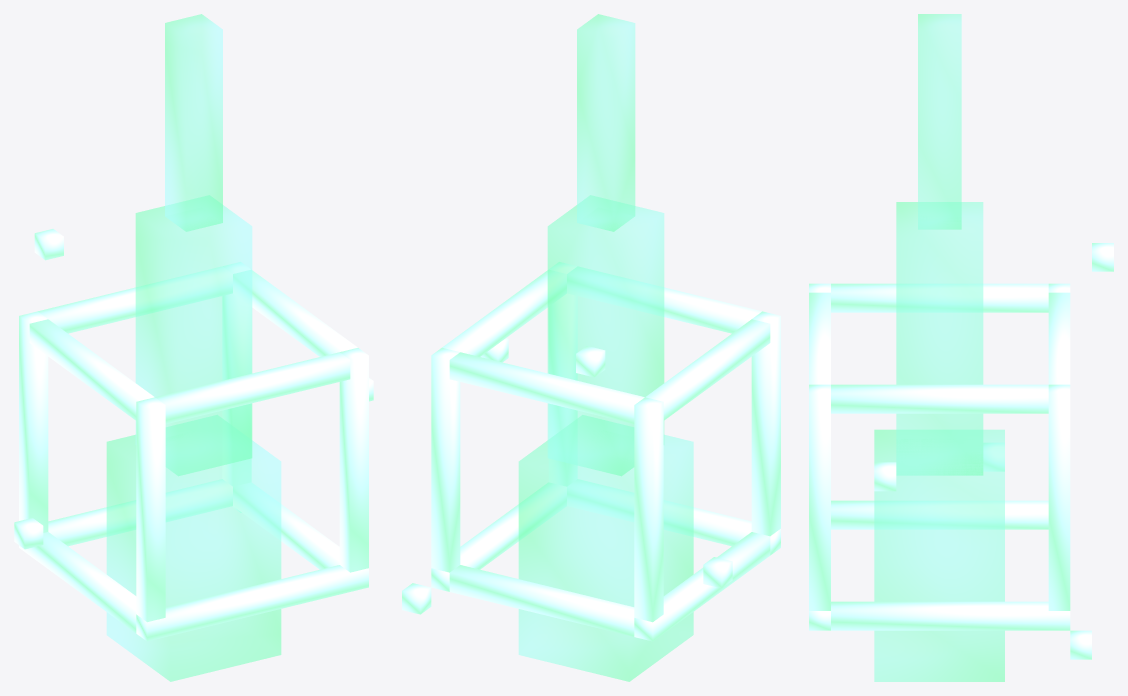
Rendered from pickup-glow.glb.
3 views of the same model, side by side, from view 1: azimuth 30°, elevation 25°; view 2: azimuth 150°, elevation 25°; view 3: azimuth 270°, elevation 25° (orthographic). The views are drawn at different scales.
Visible parts, largest first — view 1: layer.column, layer.edge; view 2: layer.edge, layer.column; view 3: layer.column, layer.edge.
Part boxes in pixels (left/top/right/bottom): layer.column: left=106, top=14, right=281, bottom=681; layer.edge: left=14, top=229, right=373, bottom=641; layer.edge: left=402, top=262, right=780, bottom=641; layer.column: left=518, top=14, right=693, bottom=681; layer.column: left=874, top=14, right=1004, bottom=681; layer.edge: left=809, top=243, right=1113, bottom=659.
Size of the model in its own units: 0.5 by 1 by 0.4375.
